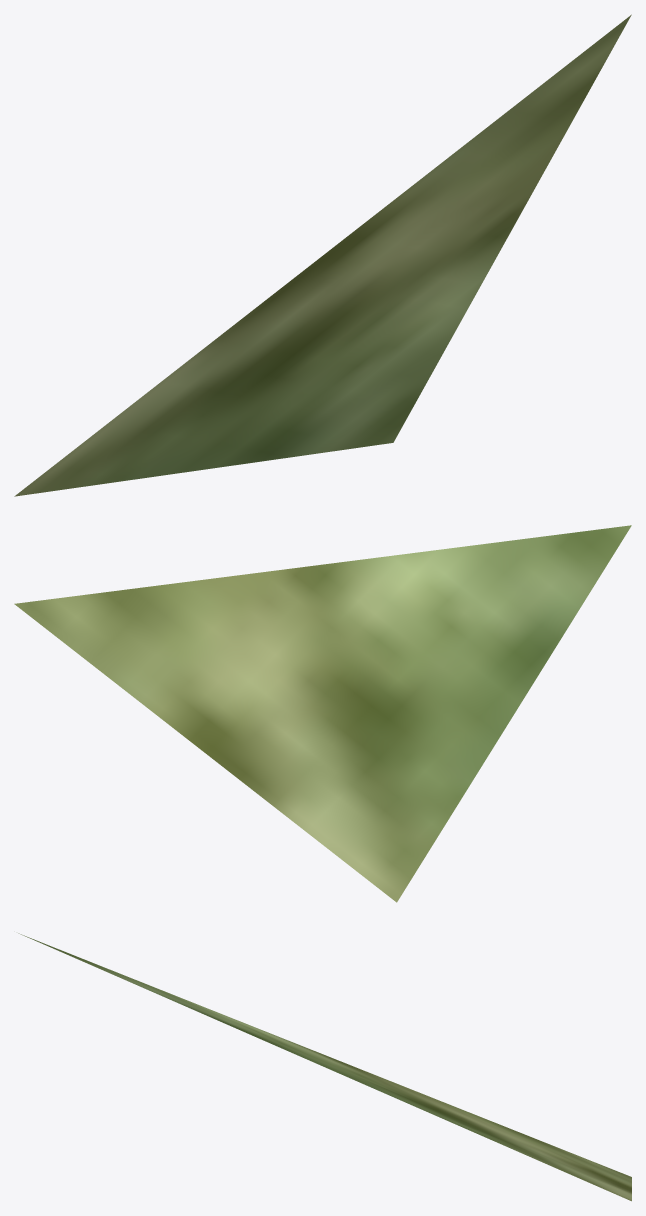
3 views of the same model, one above another, from view 1: azimuth 30°, elevation 25°; view 2: azimuth 150°, elevation 25°; view 3: azimuth 270°, elevation 25° (orthographic). The views are drawn at different scales.
Bounding box in the file's own units: 0.4639 × 0.2379 × 0.4934.
1 material, 1 textured.
